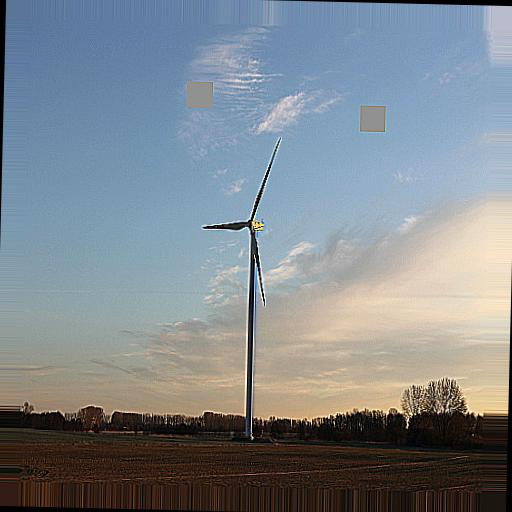wind turbine: (200, 135, 283, 422)
